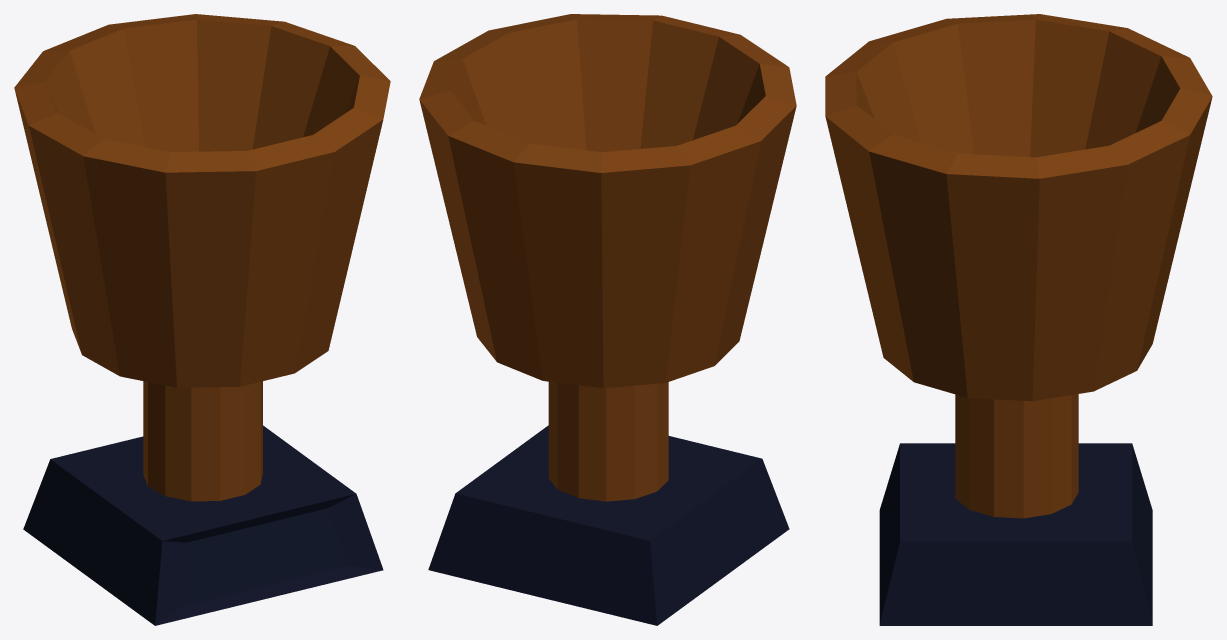
File: BromsPoklaer.fbx
3 views of the same model, side by side, from view 1: azimuth 30°, elevation 25°; view 2: azimuth 150°, elevation 25°; view 3: azimuth 270°, elevation 25° (orthographic). The views are drawn at different scales.
Visible parts, largest first — view 1: Cylinder.003, Cube.002; view 2: Cylinder.003, Cube.002; view 3: Cylinder.003, Cube.002.
Boxes of the visible parts, <box> form: Cylinder.003: <box>14,14,390,501</box>; Cube.002: <box>23,425,383,625</box>; Cylinder.003: <box>419,14,796,501</box>; Cube.002: <box>428,425,789,625</box>; Cylinder.003: <box>825,14,1212,518</box>; Cube.002: <box>879,443,1152,625</box>.
Size of the model in its own units: 286 by 387 by 283.
